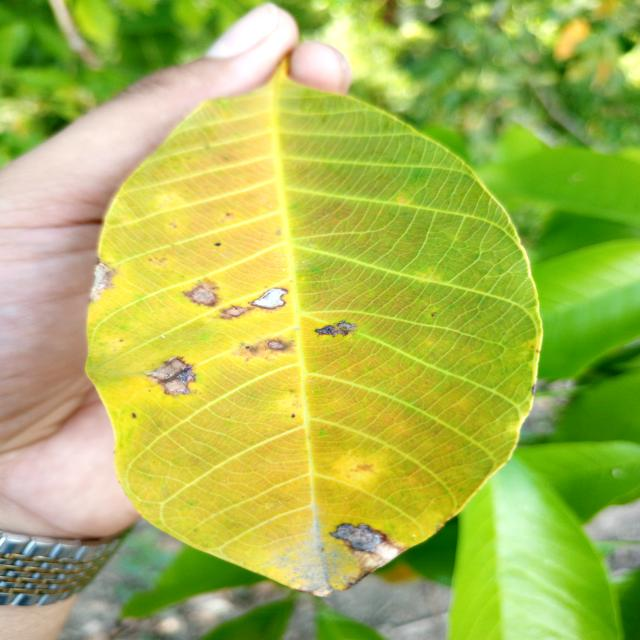Colletotrichum: (214, 242, 222, 246)
Leaf-Blight: (252, 288, 288, 308)
